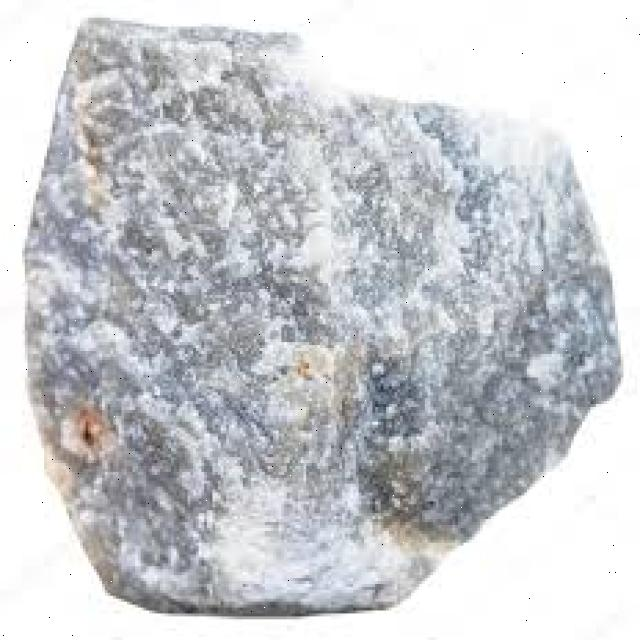Metamorphic: (30, 12, 621, 628)
